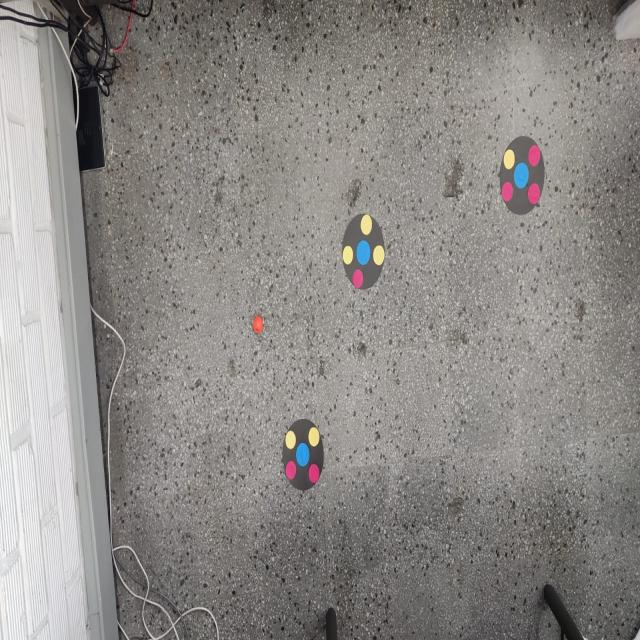0: (499, 136, 545, 216)
1: (282, 418, 324, 492)
2: (342, 212, 385, 291)
Ball: (252, 315, 264, 335)
